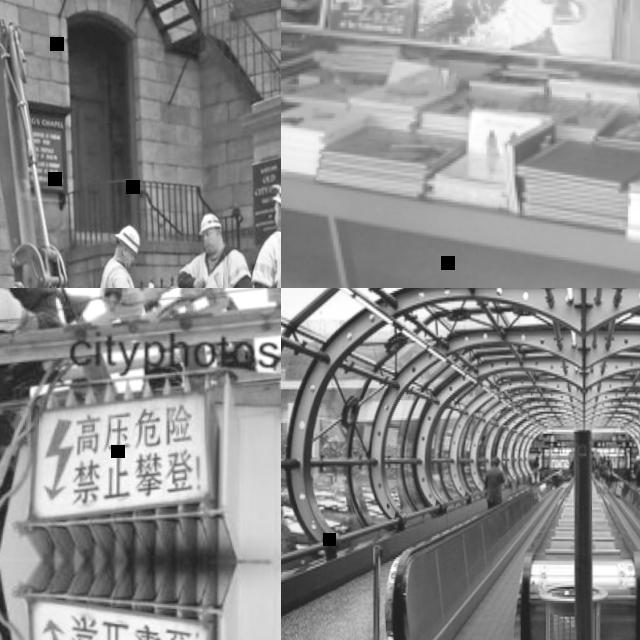Hardhat: (114, 226, 139, 253), (199, 214, 221, 233), (272, 178, 281, 211)
NO-Hardhat: (490, 457, 500, 468), (635, 457, 639, 462), (601, 458, 604, 463), (533, 464, 535, 468)
NO-Mask: (204, 237, 220, 251), (120, 252, 131, 267), (272, 211, 281, 227)
NO-Safety Vest: (0, 288, 44, 430), (484, 467, 500, 501), (632, 461, 640, 475), (599, 464, 606, 477), (532, 467, 537, 476)
Person: (0, 288, 65, 579), (173, 212, 253, 288), (91, 225, 155, 288), (483, 458, 505, 509), (631, 456, 640, 487), (598, 457, 606, 483), (532, 464, 537, 482)
Safety Vest: (195, 250, 237, 288), (93, 258, 144, 288)
vehicle: (0, 15, 73, 288)
